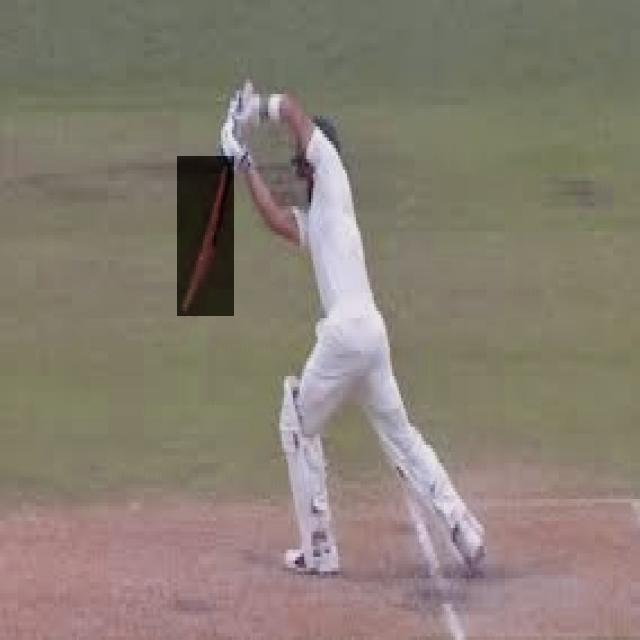bat: (179, 158, 232, 315)
